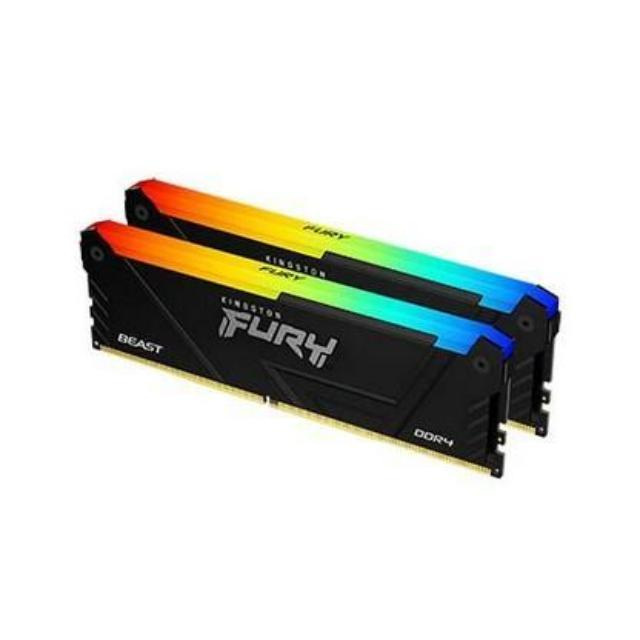RAM: (71, 164, 568, 482)
